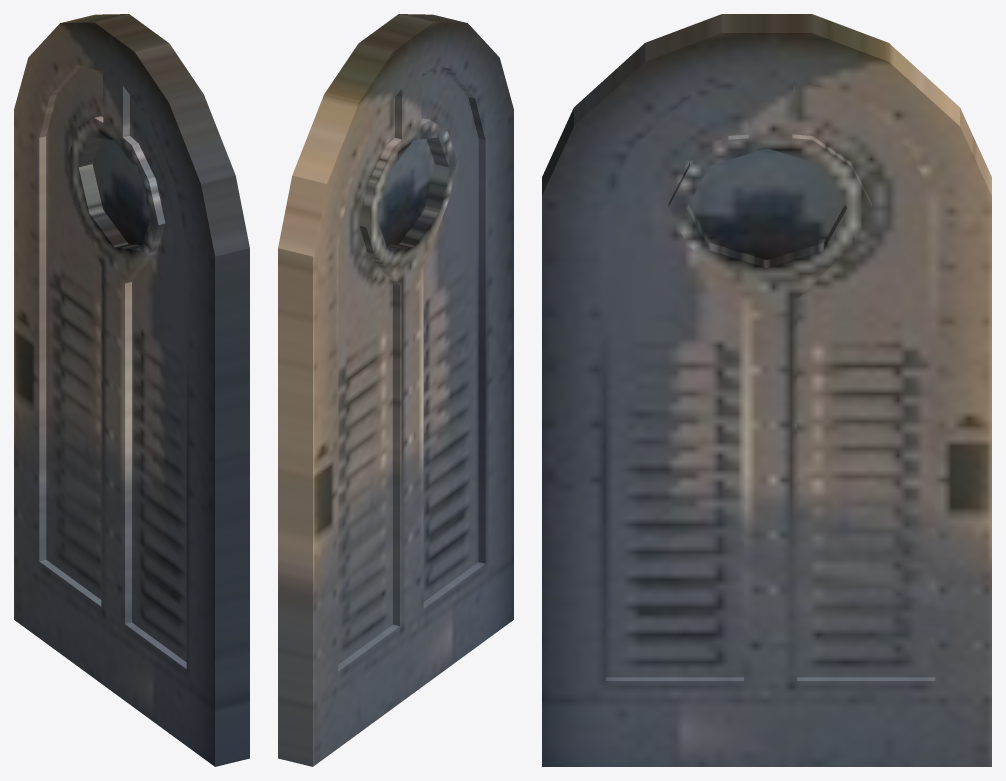
File: door_1.fbx
3 views of the same model, side by side, from view 1: azimuth 30°, elevation 25°; view 2: azimuth 150°, elevation 25°; view 3: azimuth 270°, elevation 25° (orthographic). The views are drawn at different scales.
Visible parts, largest first — view 1: Plane; view 2: Plane; view 3: Plane.
Part boxes in pixels (x1,y1,x2,y2): Plane: [14, 14, 249, 766]; Plane: [278, 14, 513, 766]; Plane: [542, 14, 991, 766].
Bounding box in the file's own units: 10 × 180 × 100.
